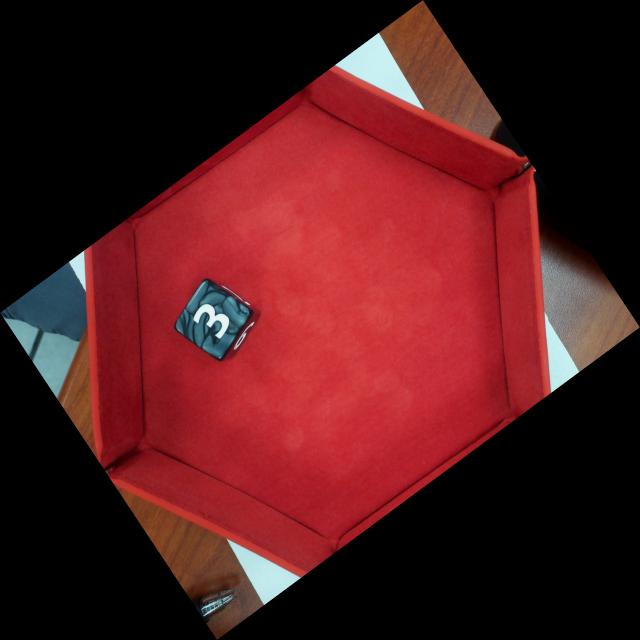dice: (177, 280, 260, 363)
